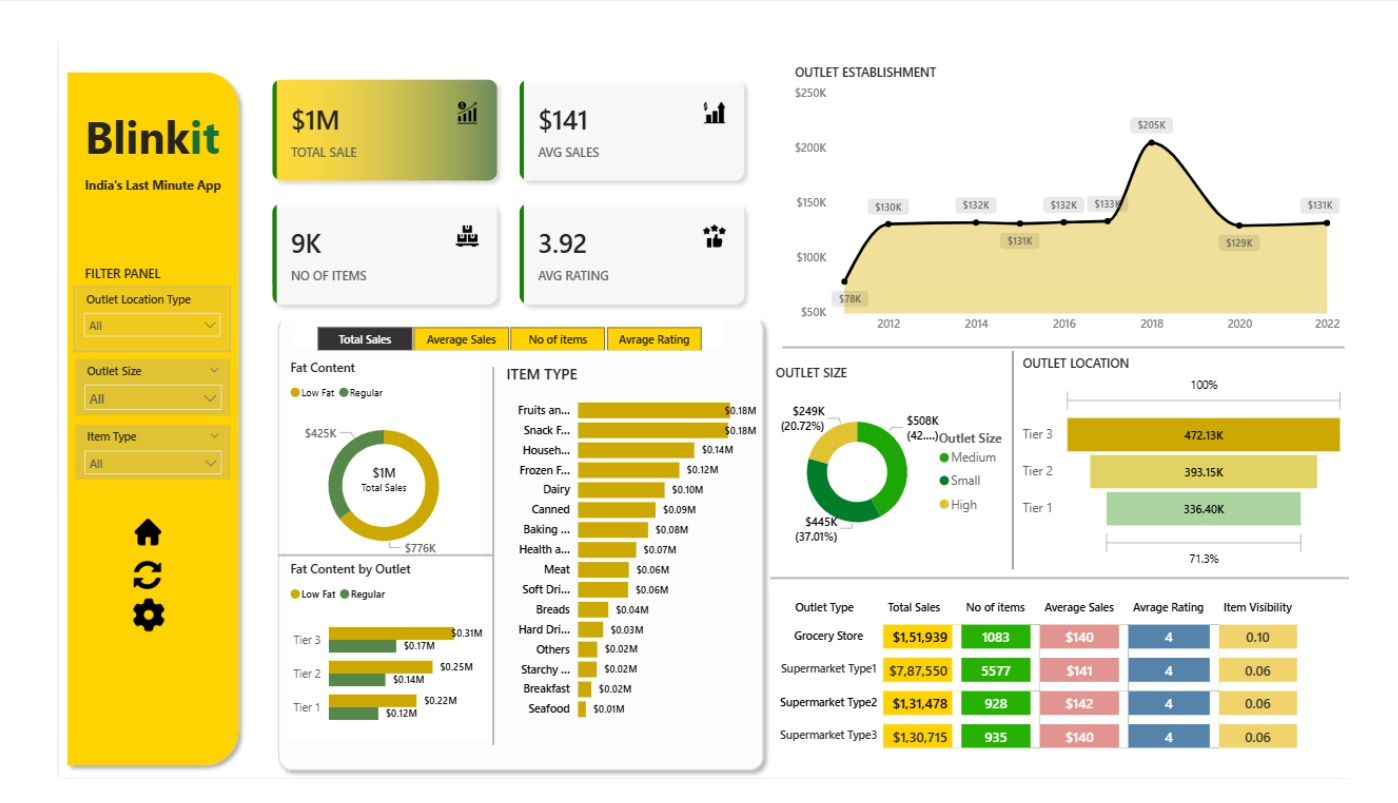

What the dashboard file says about the page in this screenshot:
{"tool":"powerbi","page":{"name":"Page 1","canvas":[1400,800],"ordinal":0},"visuals":[{"type":"shape","box":[14.2,7.9,204.7,784.3],"z":0},{"type":"textbox","box":[28.3,72.4,165.4,28.3],"z":1000},{"type":"textbox","box":[28.3,12.6,165.4,74],"z":2000},{"type":"cardVisual","fields":{"Data":["BlinkIT Grocery Data.Total Sales","BlinkIT Grocery Data.Avg Sales","BlinkIT Grocery Data.No of Items","BlinkIT Grocery Data.Avg Rating"]},"box":[215.1,0,569,267.9],"z":3000},{"type":"donutChart","title":"FAT CONTAIN","fields":{"Y":["BlinkIT Grocery Data.Total Sales"],"Category":["BlinkIT Grocery Data.Item Fat Content"]},"box":[228.3,333.9,245.7,193.7],"z":4000},{"type":"slicer","fields":{"Values":["MERTICS.MERTICS"]},"box":[274,283.5,450.4,40],"z":5000},{"type":"cardVisual","fields":{"Data":["BlinkIT Grocery Data.Total Sales"]},"box":[299.2,418.9,103.9,63],"z":6000},{"type":"clusteredBarChart","title":"FAT BY OUTLET","fields":{"Y":["BlinkIT Grocery Data.Total Sales"],"Category":["BlinkIT Grocery Data.Outlet Location Type"],"Series":["BlinkIT Grocery Data.Item Fat Content"]},"box":[228.3,541.7,245.7,242.5],"z":7000},{"type":"shape","box":[215.7,511.8,245.7,29.9],"z":8000},{"type":"shape","box":[472.4,333.9,25.2,450.4],"z":9000},{"type":"barChart","title":"ITEM TYPE","fields":{"Y":["BlinkIT Grocery Data.Total Sales"],"Category":["BlinkIT Grocery Data.Item Type"]},"box":[497.6,333.9,286.6,450.4],"z":10000},{"type":"lineChart","title":"OUTLET ESTABLISHMENT","fields":{"Y":["BlinkIT Grocery Data.Total Sales"],"Category":["BlinkIT Grocery Data.Outlet Establishment Year"]},"box":[803.1,28.3,589,239.4],"z":11000},{"type":"shape","box":[228.3,511.8,244.1,29.9],"z":12000},{"type":"shape","box":[803.1,248.8,576.4,36.2],"z":13000},{"type":"donutChart","title":"OUTLET SIZE","fields":{"Y":["BlinkIT Grocery Data.Total Sales"],"Category":["BlinkIT Grocery Data.Outlet Size"]},"box":[803.1,285,275.6,242.5],"z":14000},{"type":"funnel","title":"OUTLET LOCATION","fields":{"Y":["Sum(BlinkIT Grocery Data.Sales)"],"Category":["BlinkIT Grocery Data.Outlet Location Type"]},"box":[1091.3,285,300.8,240.9],"z":15000},{"type":"pivotTable","title":"OUTLET TYPE","fields":{"Values":["BlinkIT Grocery Data.Total Sales","BlinkIT Grocery Data.Avg Sales","BlinkIT Grocery Data.Avg Rating","Avg(BlinkIT Grocery Data.Item Visibility)","BlinkIT Grocery Data.No of Items"],"Rows":["BlinkIT Grocery Data.Outlet Type"]},"box":[803.1,540.2,589,244.1],"z":16000},{"type":"slicer","fields":{"Values":["BlinkIT Grocery Data.Outlet Location Type"]},"box":[28.3,217.3,176.4,61.4],"z":17000},{"type":"slicer","fields":{"Values":["BlinkIT Grocery Data.Outlet Size"]},"box":[28.3,291.3,176.4,61.4],"z":18000},{"type":"slicer","fields":{"Values":["BlinkIT Grocery Data.Item Type"]},"box":[28.3,368.5,176.4,61.4],"z":19000},{"type":"textbox","title":"FILTER PANNEL","box":[67.7,174.8,137,29.9],"z":20000},{"type":"image","box":[28.3,174.8,42.5,29.9],"z":20001},{"type":"image","box":[75.6,511.8,61.4,47.2],"z":20002},{"type":"image","box":[78.7,598.4,58.3,36.2],"z":20003}]}

Visuals, with their boxes in screenshot pixels (x1, y1, x2, y2), scaled from the page's 1400x800 canvas onto the 1398x803 screenshot:
shape: (14,8,219,795)
textbox: (28,73,193,101)
textbox: (28,13,193,87)
cardVisual - BlinkIT Grocery Data.Total Sales x BlinkIT Grocery Data.Avg Sales: (215,0,783,269)
"FAT CONTAIN" donutChart: (228,335,473,530)
slicer - MERTICS.MERTICS: (274,285,723,325)
cardVisual - BlinkIT Grocery Data.Total Sales: (299,420,403,484)
"FAT BY OUTLET" clusteredBarChart: (228,544,473,787)
shape: (215,514,461,544)
shape: (472,335,497,787)
"ITEM TYPE" barChart: (497,335,783,787)
"OUTLET ESTABLISHMENT" lineChart: (802,28,1390,269)
shape: (228,514,472,544)
shape: (802,250,1378,286)
"OUTLET SIZE" donutChart: (802,286,1077,529)
"OUTLET LOCATION" funnel: (1090,286,1390,528)
"OUTLET TYPE" pivotTable: (802,542,1390,787)
slicer - BlinkIT Grocery Data.Outlet Location Type: (28,218,204,280)
slicer - BlinkIT Grocery Data.Outlet Size: (28,292,204,354)
slicer - BlinkIT Grocery Data.Item Type: (28,370,204,432)
"FILTER PANNEL" textbox: (68,175,204,205)
image: (28,175,71,205)
image: (75,514,137,561)
image: (79,601,137,637)
